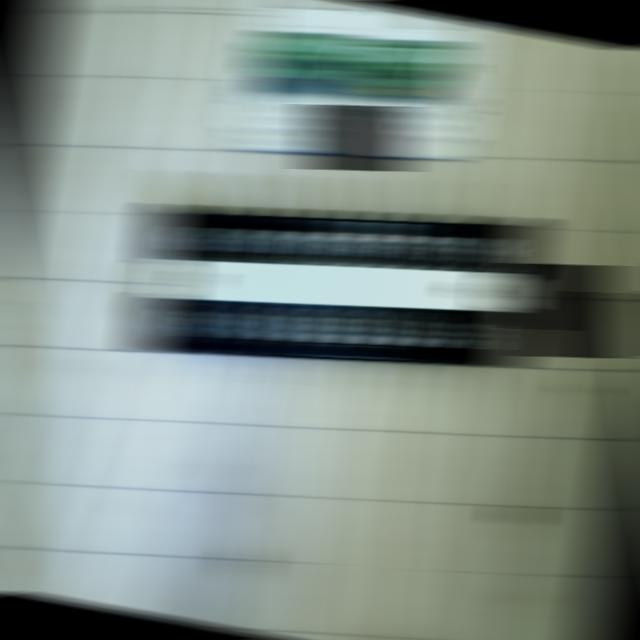Flathead_Block: (134, 203, 538, 365)
Terminal_1: (258, 30, 356, 79), (352, 38, 451, 85)
